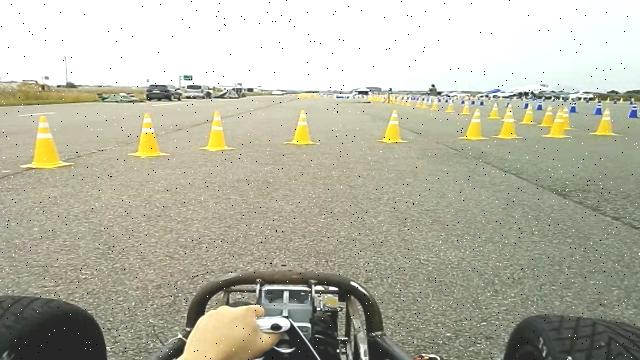blue cone: (592, 100, 604, 115), (628, 106, 640, 118), (568, 101, 579, 114), (536, 103, 543, 110), (523, 102, 530, 109)
yellow cone: (21, 114, 74, 169), (127, 112, 171, 158), (199, 110, 236, 151), (284, 109, 321, 145), (377, 109, 409, 143), (588, 108, 622, 137), (458, 109, 489, 140), (492, 118, 524, 139), (542, 118, 572, 138), (554, 107, 572, 129), (539, 106, 556, 127), (520, 106, 537, 124), (502, 104, 516, 121), (488, 102, 501, 119), (461, 103, 471, 115), (430, 101, 440, 111), (446, 102, 456, 112)
